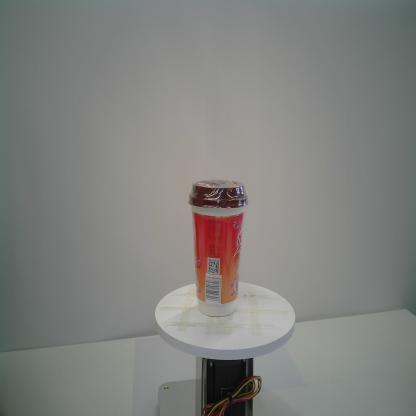Instant Drink: (188, 178, 249, 317)
